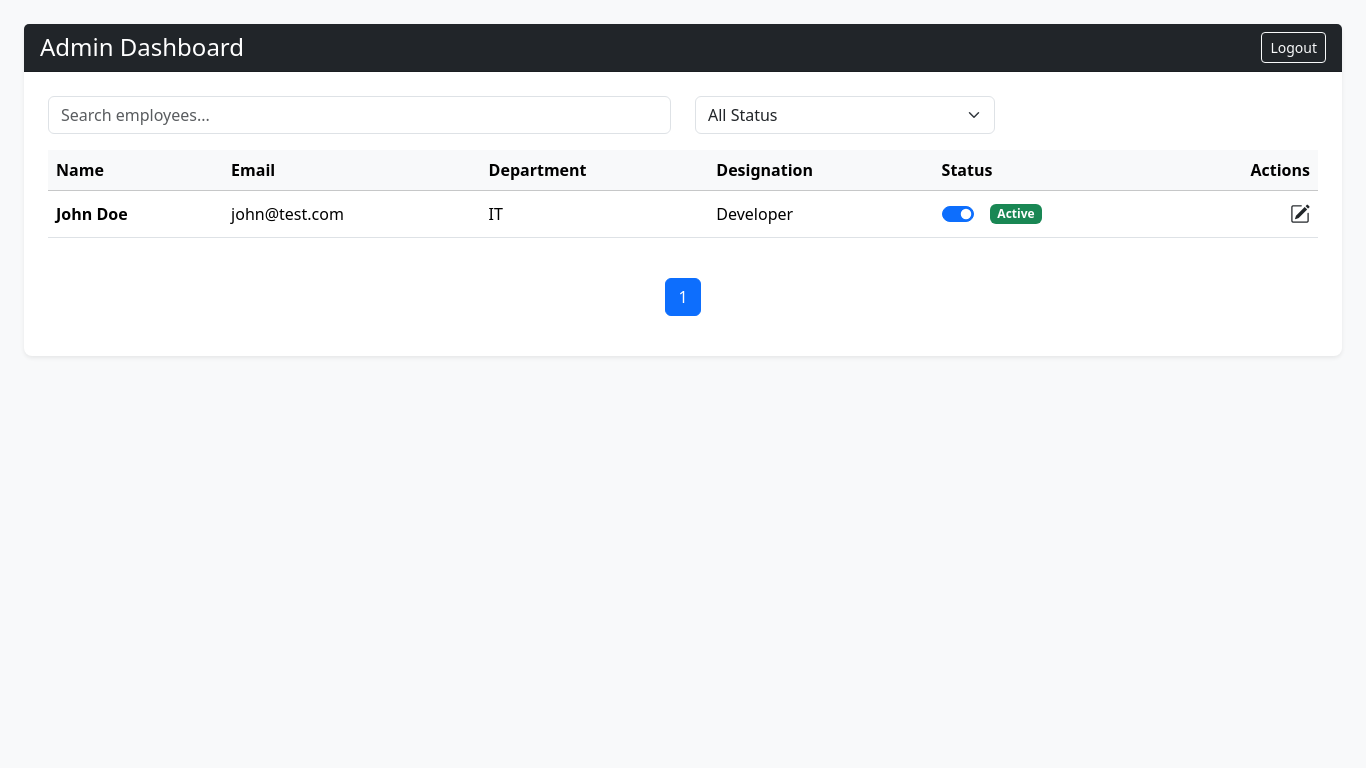
Test case: Admin Dashboard - Full Test Suite › edit and update employee
Check: the text "John Doe" is shown, box x1=48 y1=190 x2=223 y2=238
Click edit button
Click the button titled "edit" at (1300, 214), box x1=1290 y1=199 x2=1310 y2=229
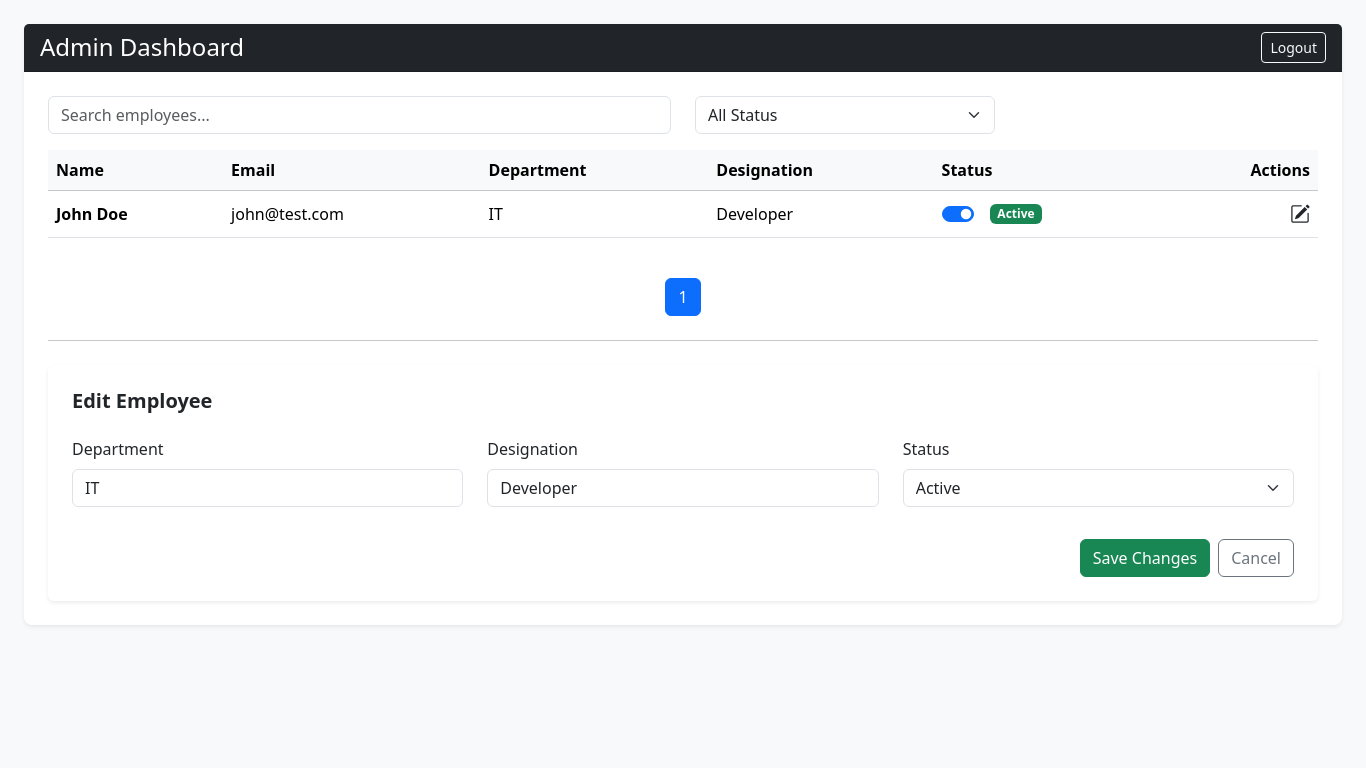
Change department
Replace the text in the field labelled "Department" with "HR" at (268, 488), box x1=72 y1=469 x2=463 y2=507
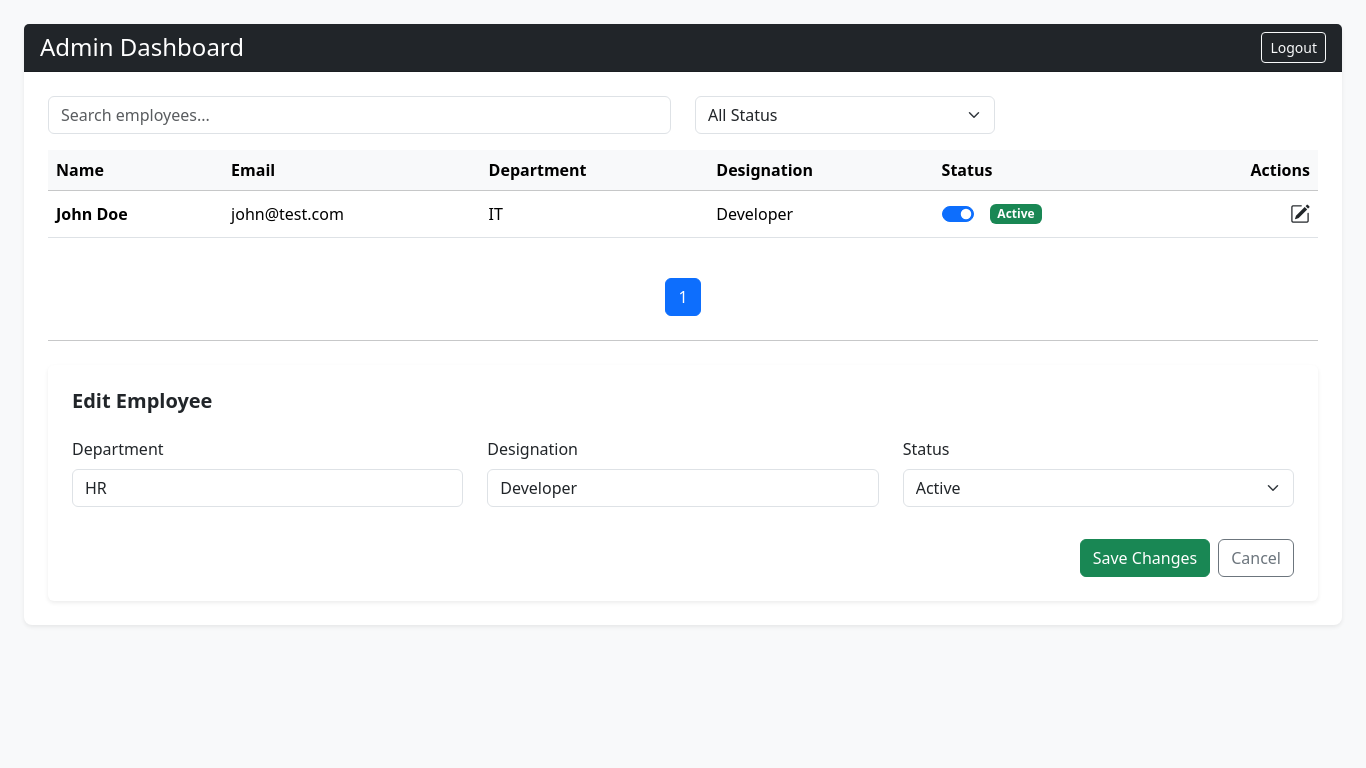
Click the button "Save Changes" at (1145, 558), box x1=1080 y1=539 x2=1210 y2=577
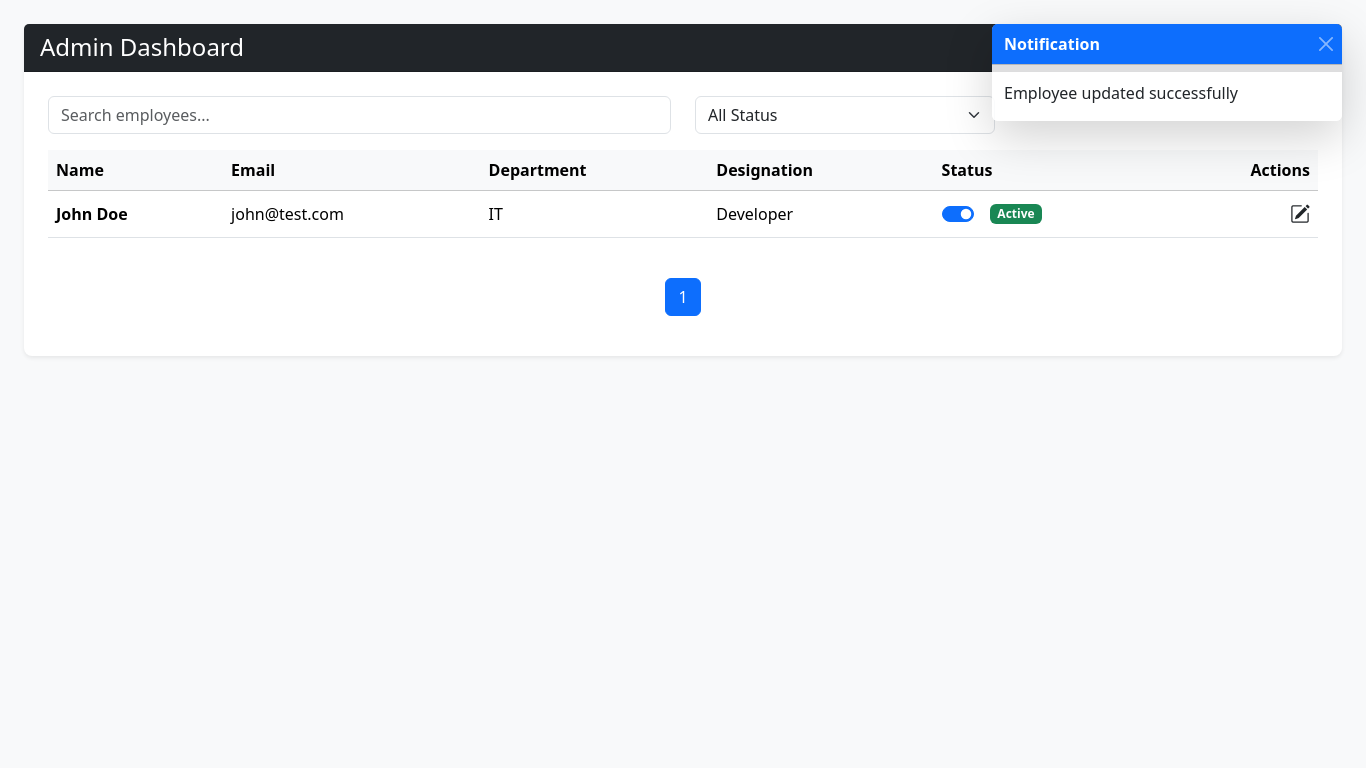
Check: the text "Employee updated successfully" is shown, box x1=1004 y1=82 x2=1238 y2=104
